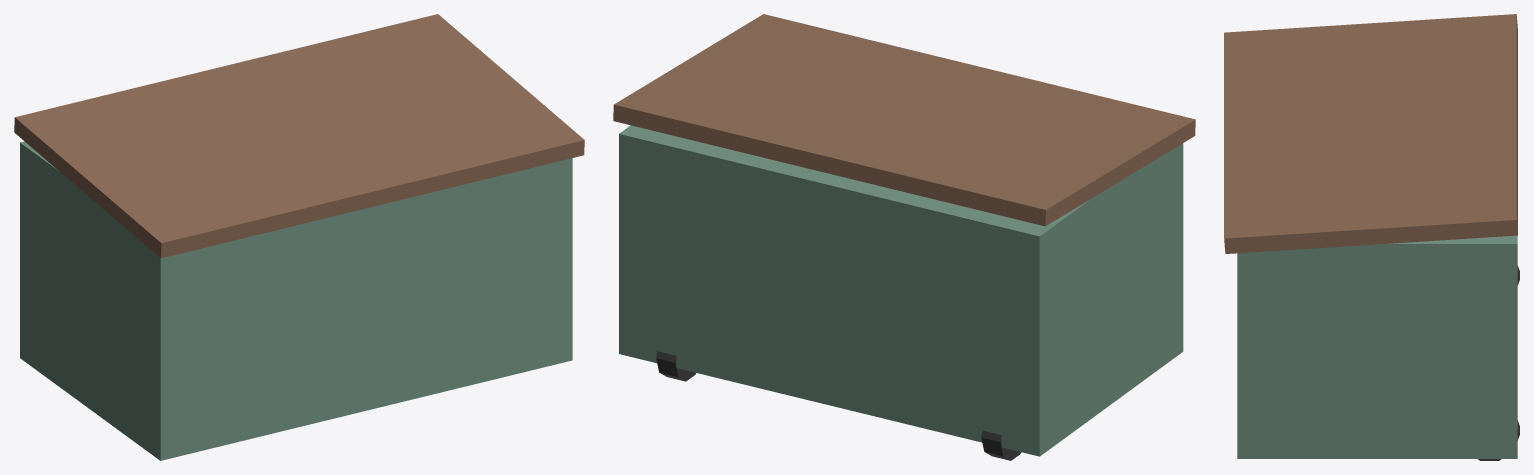
File: dumpster.glb
3 views of the same model, side by side, from view 1: azimuth 30°, elevation 25°; view 2: azimuth 150°, elevation 25°; view 3: azimuth 270°, elevation 25° (orthographic). The views are drawn at different scales.
Parts seen in each view (by area): view 1: dumpster; view 2: dumpster; view 3: dumpster.
Part boxes in pixels (<box>): dumpster: <box>14,14,584,460</box>; dumpster: <box>613,14,1195,460</box>; dumpster: <box>1224,14,1519,460</box>.
Size of the model in its own units: 2.26 by 1.34 by 1.37.
